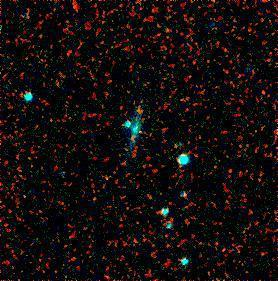star: (125, 98, 155, 128)
